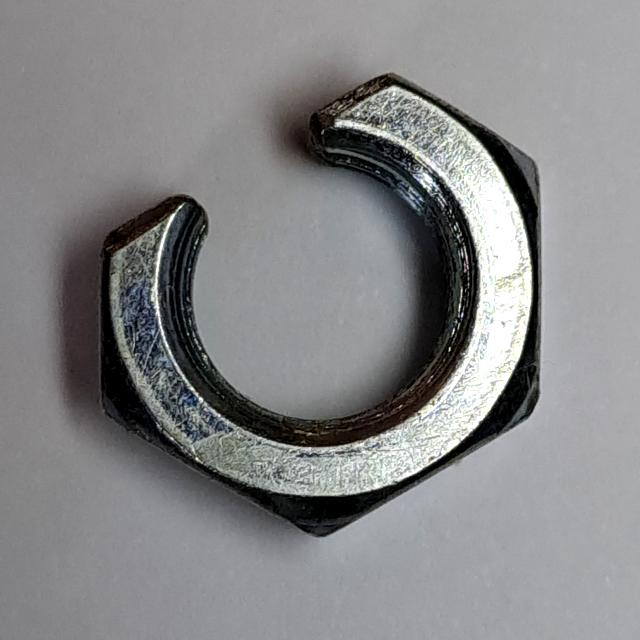Fracture: (83, 57, 562, 550)
